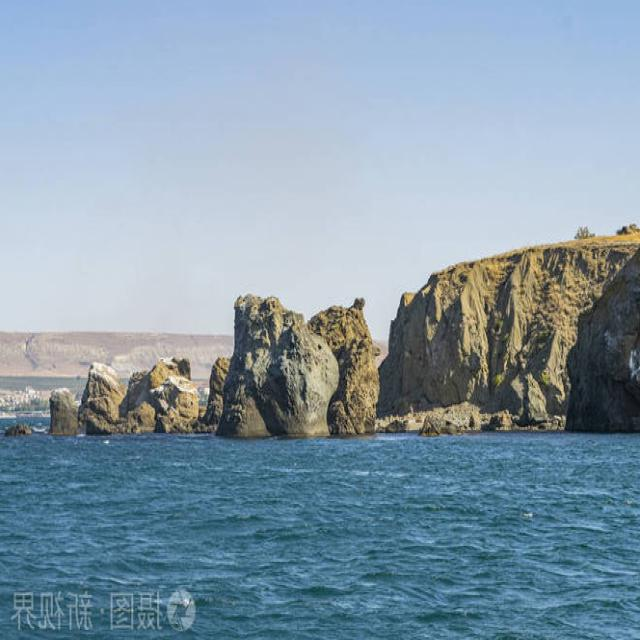reef: (47, 291, 234, 432)
